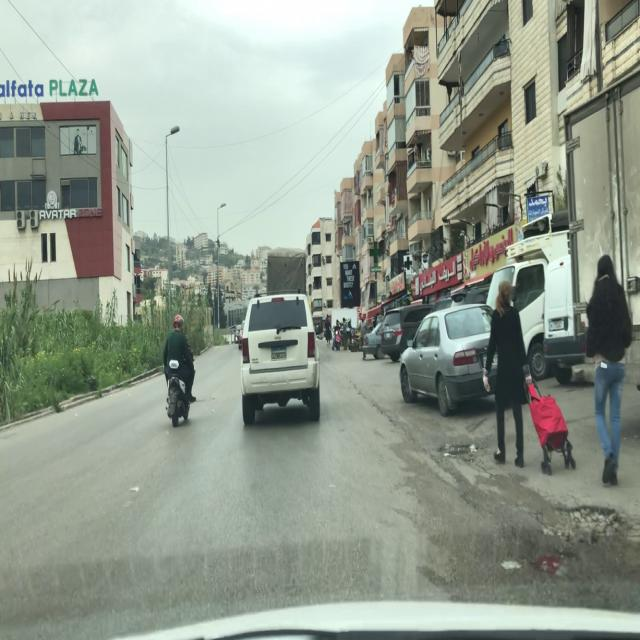Pothole: (570, 506, 621, 538), (437, 442, 480, 457)
